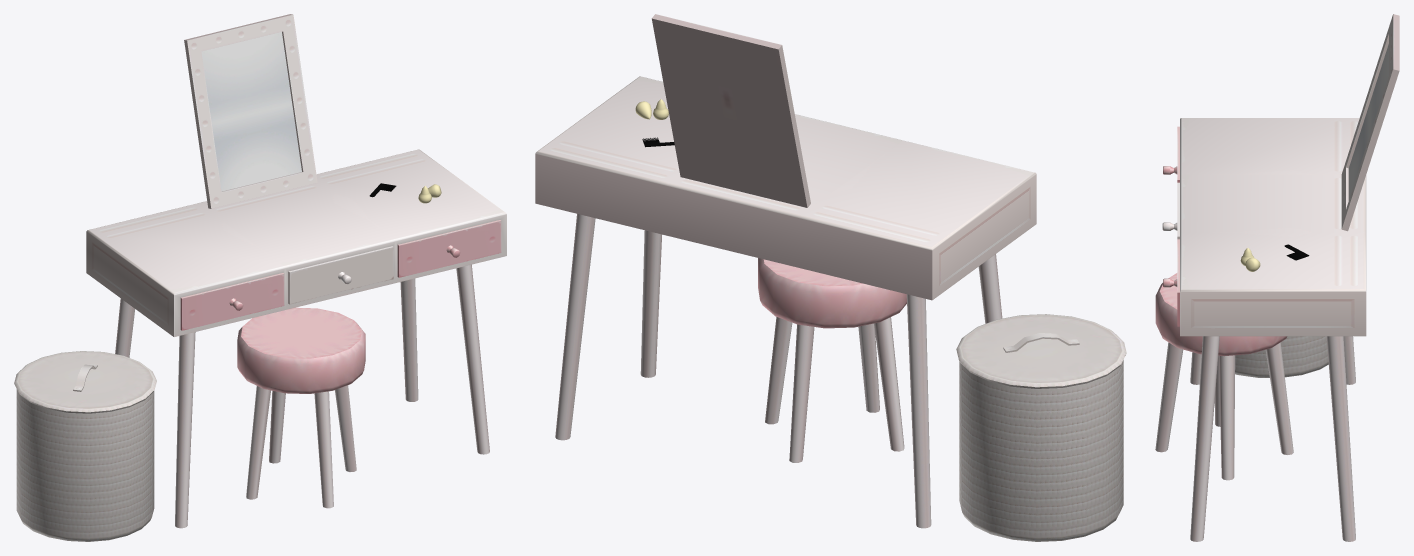
The model's file is hair_dresser_set.glb.
3 renders of one model, left to right at view 1: azimuth 30°, elevation 25°; view 2: azimuth 150°, elevation 25°; view 3: azimuth 270°, elevation 25°, orthographic. The views are drawn at different scales.
Visible parts, largest first — view 1: Bedroom MUTable_Bedroom MUTable.001_0, BedroomBasket_WashBasketBedroom.001_0_WashBasketBedroom.001_, Bedroom MUTable Mirror_Bedroom MUTable.001_0_Bedroom_MUTable, Bedroom MUTableSeat_Bedroom MUTable.001_0_Bedroom_MUTable.00; view 2: Bedroom MUTable_Bedroom MUTable.001_0, BedroomBasket_WashBasketBedroom.001_0_WashBasketBedroom.001_, Bedroom MUTable Mirror_Bedroom MUTable.001_0_Bedroom_MUTable, Bedroom MUTableSeat_Bedroom MUTable.001_0_Bedroom_MUTable.00; view 3: Bedroom MUTable_Bedroom MUTable.001_0, Bedroom MUTableSeat_Bedroom MUTable.001_0_Bedroom_MUTable.00, Bedroom MUTable Mirror_Bedroom MUTable.001_0_Bedroom_MUTable, BedroomBasket_WashBasketBedroom.001_0_WashBasketBedroom.001_.
Boxes of the visible parts, x1,y1,x2,y2 form: Bedroom MUTable_Bedroom MUTable.001_0: (86, 149, 506, 528); BedroomBasket_WashBasketBedroom.001_0_WashBasketBedroom.001_: (14, 351, 156, 541); Bedroom MUTable Mirror_Bedroom MUTable.001_0_Bedroom_MUTable: (184, 14, 317, 208); Bedroom MUTableSeat_Bedroom MUTable.001_0_Bedroom_MUTable.00: (237, 307, 365, 508); Bedroom MUTable_Bedroom MUTable.001_0: (535, 76, 1036, 528); BedroomBasket_WashBasketBedroom.001_0_WashBasketBedroom.001_: (956, 314, 1126, 541); Bedroom MUTable Mirror_Bedroom MUTable.001_0_Bedroom_MUTable: (651, 14, 810, 207); Bedroom MUTableSeat_Bedroom MUTable.001_0_Bedroom_MUTable.00: (758, 258, 906, 462); Bedroom MUTable_Bedroom MUTable.001_0: (1162, 118, 1366, 541); Bedroom MUTableSeat_Bedroom MUTable.001_0_Bedroom_MUTable.00: (1155, 273, 1293, 480); Bedroom MUTable Mirror_Bedroom MUTable.001_0_Bedroom_MUTable: (1341, 14, 1399, 231); BedroomBasket_WashBasketBedroom.001_0_WashBasketBedroom.001_: (1235, 336, 1328, 377).
Size of the model in its own units: 75.09 by 64.16 by 33.89.
Materials: 4 (2 with a texture image).
